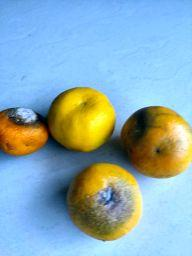orange: (66, 162, 143, 242), (120, 106, 192, 179), (47, 86, 118, 154), (0, 107, 51, 157)
